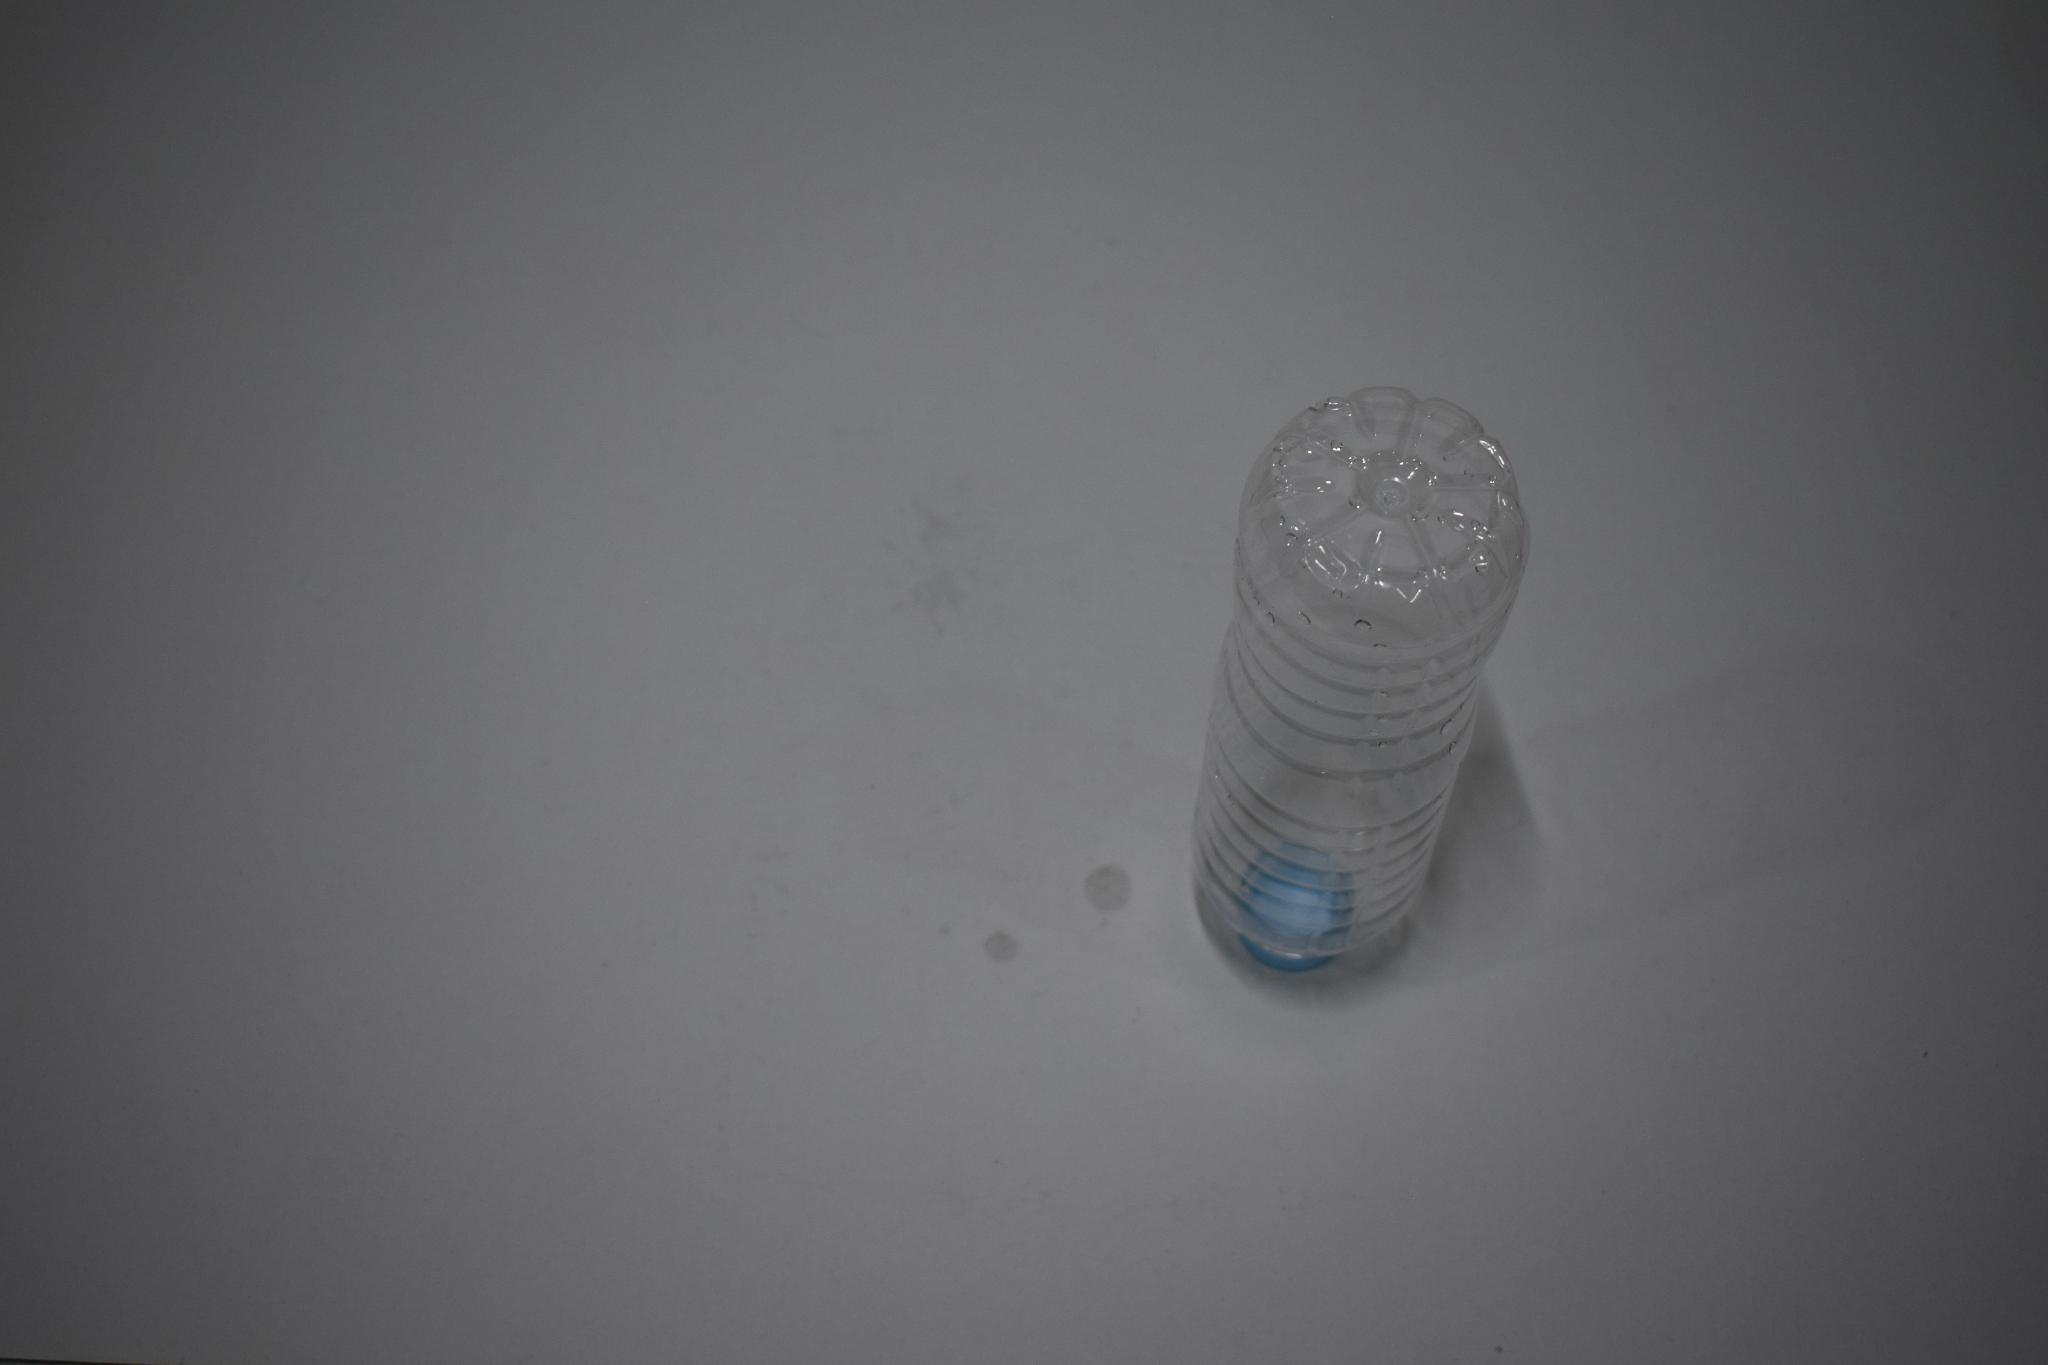bottle: (1178, 373, 1526, 983)
